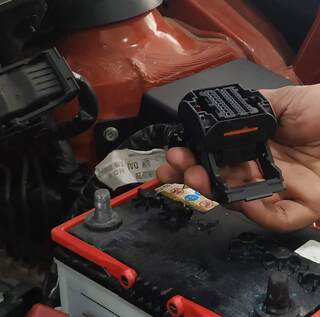connector: (178, 82, 285, 190)
